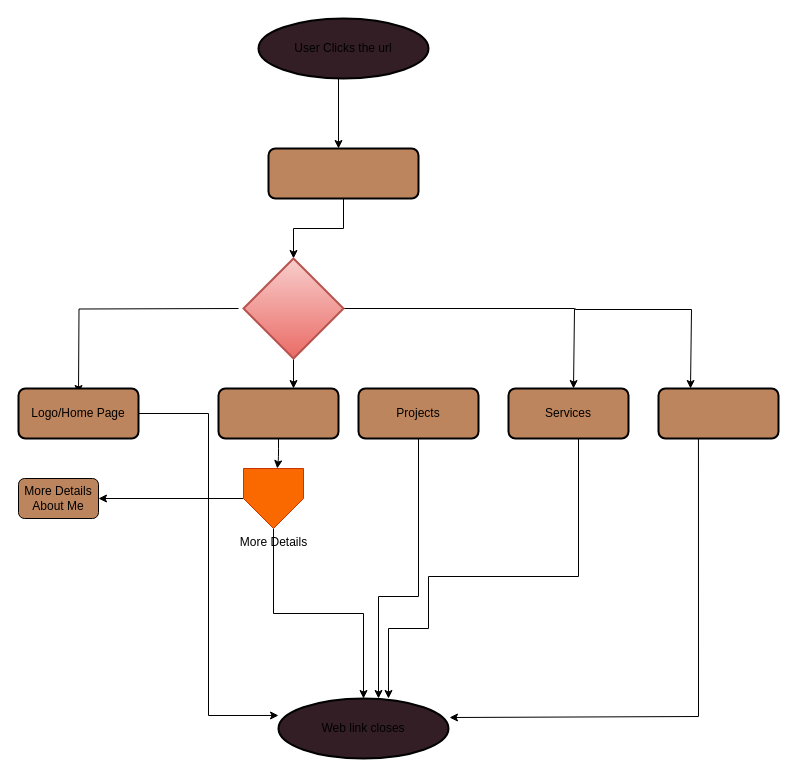
Some shapes in this 796 by 776 pixel diagram are drawn without their labels. Each missing label, with the centre of its shape:
"About Me" goes at [278,413].
"Contact Me" goes at [718,413].
"Navigation Menus" goes at [343,173].
"User Button Clicks" goes at [293,308].
